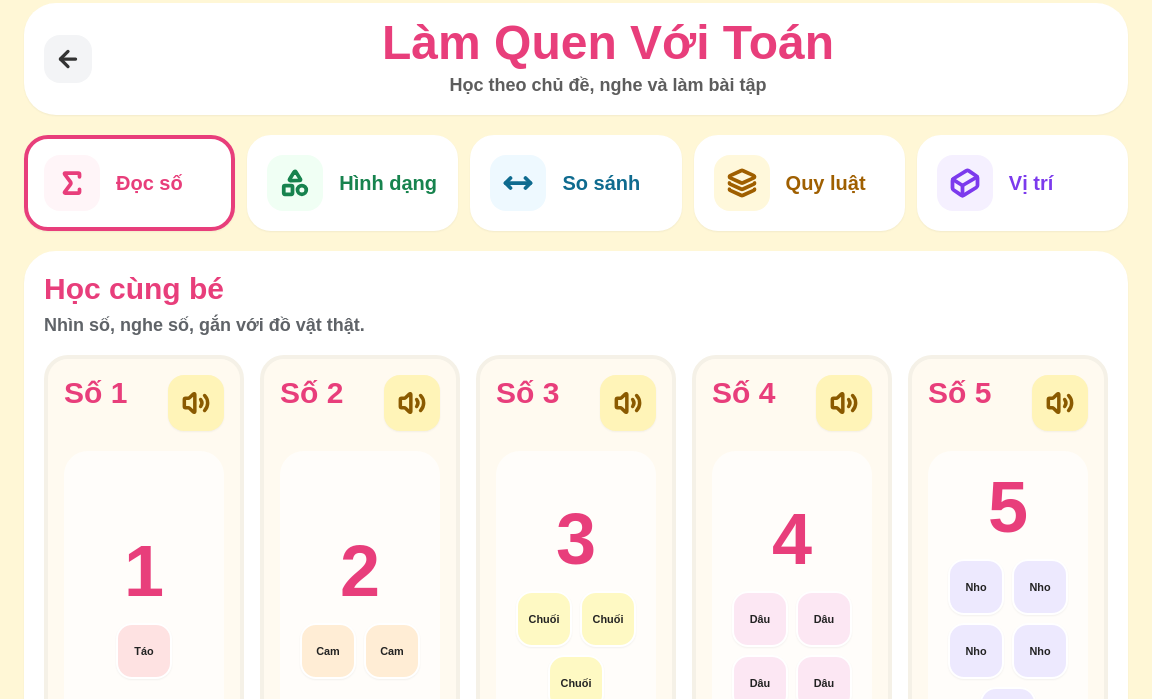
Test: math logic page › switches topics and only shows selection questions in the exercise area
Click the button "Hình dạng" at (353, 183), box [247,135,458,231]
(page scrolled)
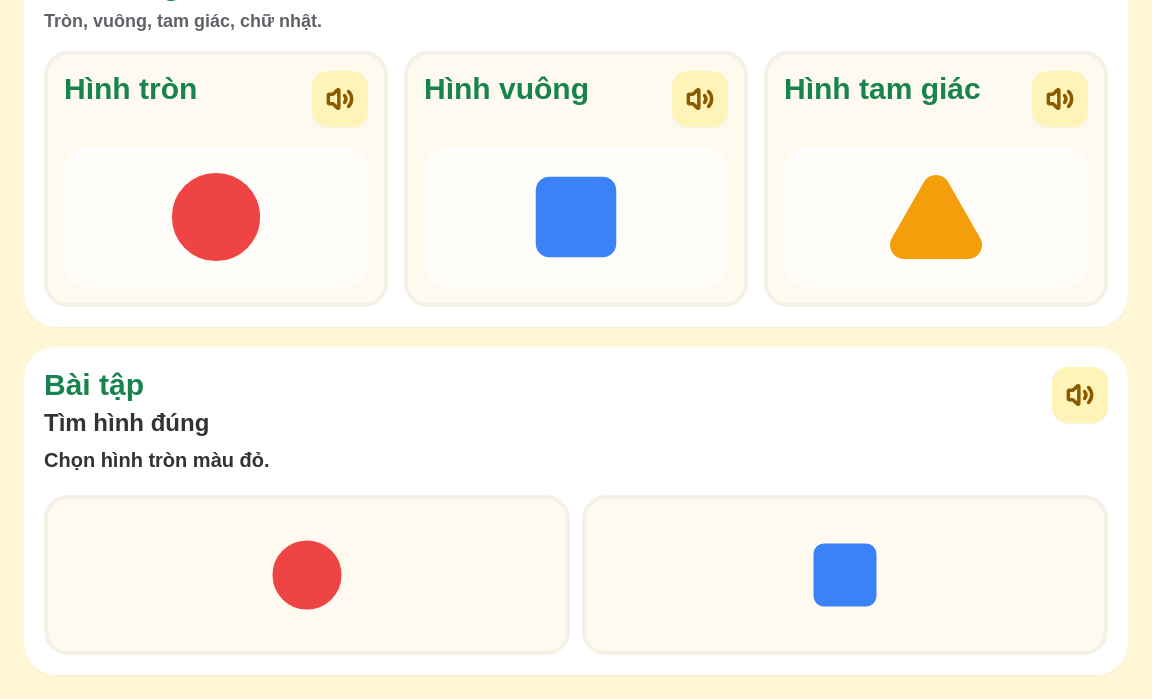
Expected: the heading "Hình tròn" is shown, [64,71,197,107]
Expected: the heading "Hình vuông" is shown, [424,71,589,107]
Expected: the text "Chọn hình tròn màu đỏ." is shown, [44,447,270,474]
Click the button named "Tròn đỏ" at (307, 574), box [44,494,570,654]
(page scrolled)
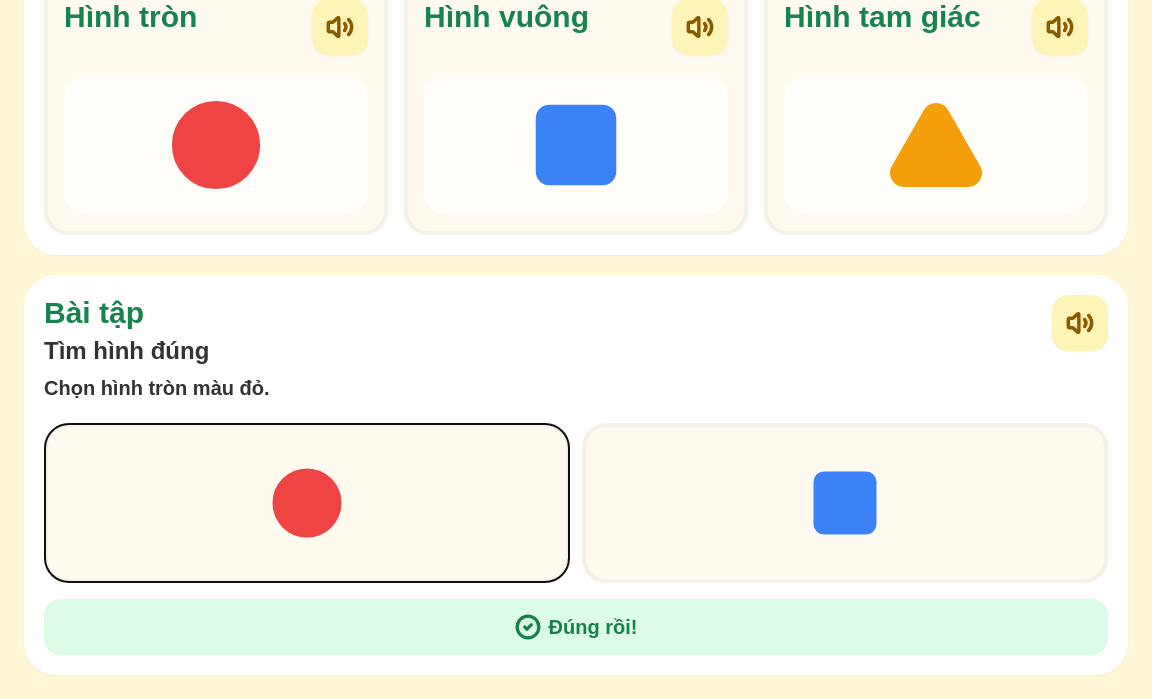
Expected: the text "Đúng rồi!" is shown, [44,598,1108,654]
